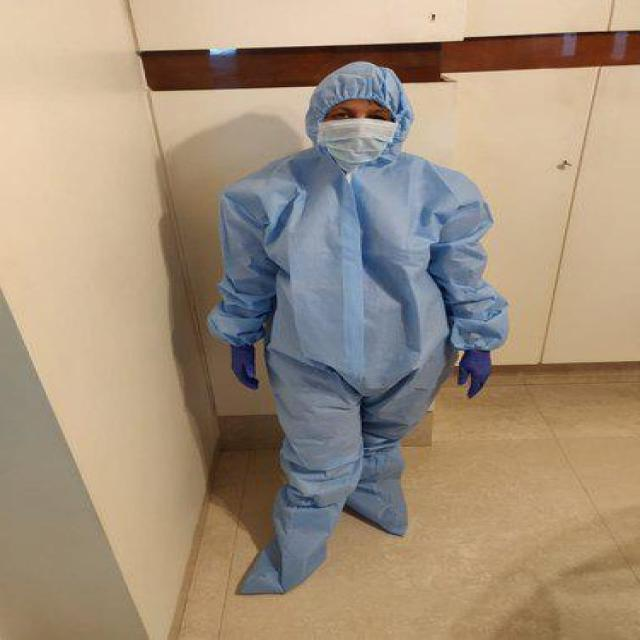gloves: (452, 346, 495, 402)
